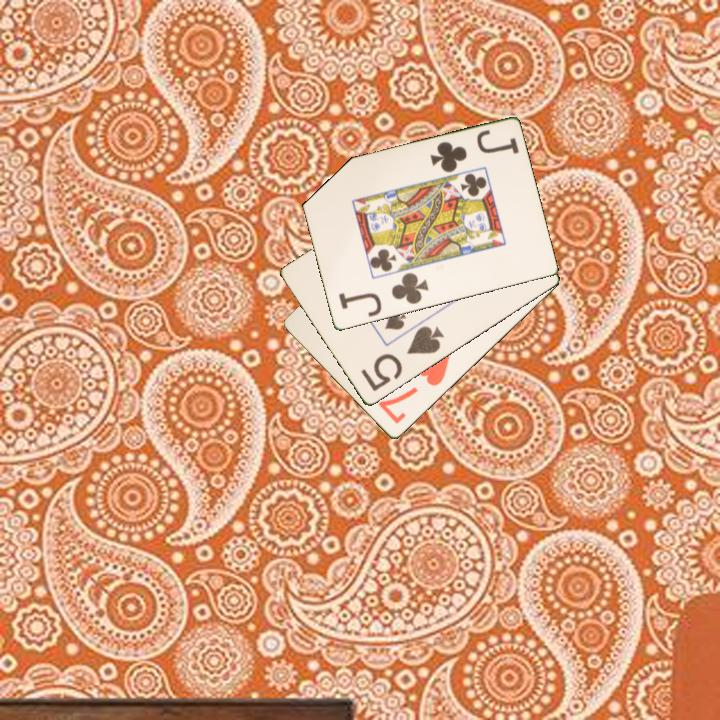5s: (357, 323, 447, 395)
7h: (375, 350, 453, 427)
Jc: (335, 269, 431, 320), (426, 126, 522, 176)
